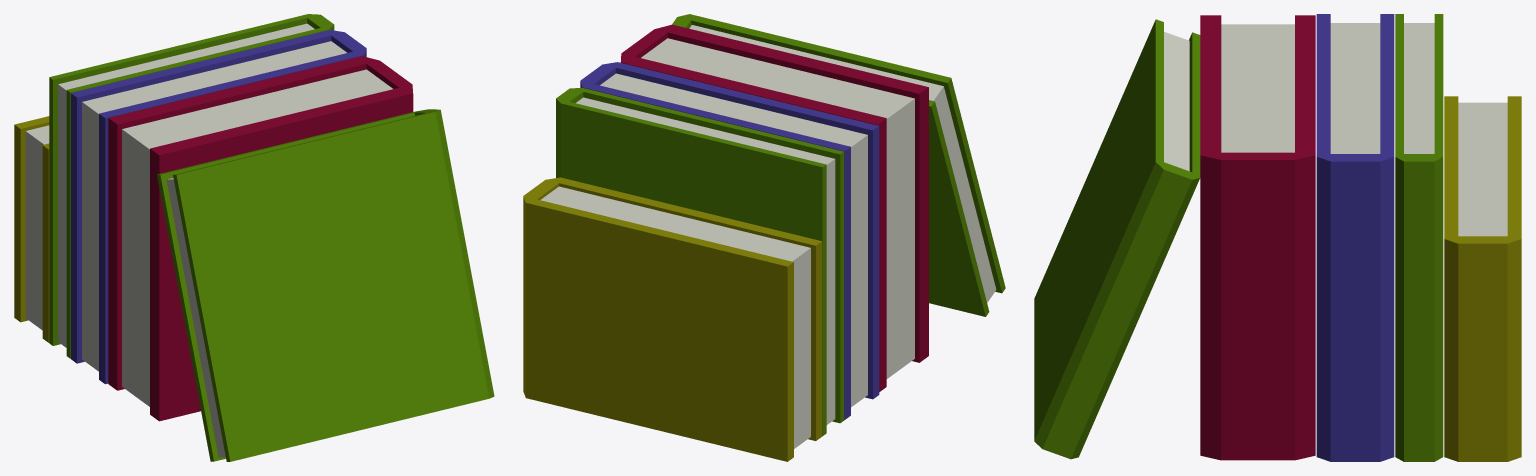
Rendered from SM_book pile 02.fbx.
The picture shows the model from 3 angles, left to right: view 1: azimuth 30°, elevation 25°; view 2: azimuth 150°, elevation 25°; view 3: azimuth 270°, elevation 25°; orthographic projection. The views are drawn at different scales.
Parts seen in each view (by area): view 1: pCube23; view 2: pCube23; view 3: pCube23.
Boxes of the visible parts, <box> form: pCube23: <box>14,14,494,461</box>; pCube23: <box>523,14,1005,461</box>; pCube23: <box>1034,14,1521,461</box>.
Size of the model in its own units: 2.11 by 2 by 2.94.
